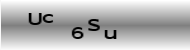6: (70, 25, 83, 40)
S: (87, 17, 101, 31)
U: (27, 11, 42, 26)
c: (43, 13, 55, 24)
u: (104, 28, 117, 41)
